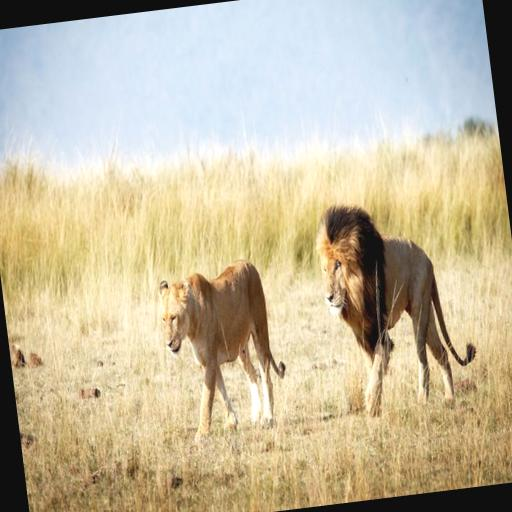lions: (34, 144, 502, 485)
